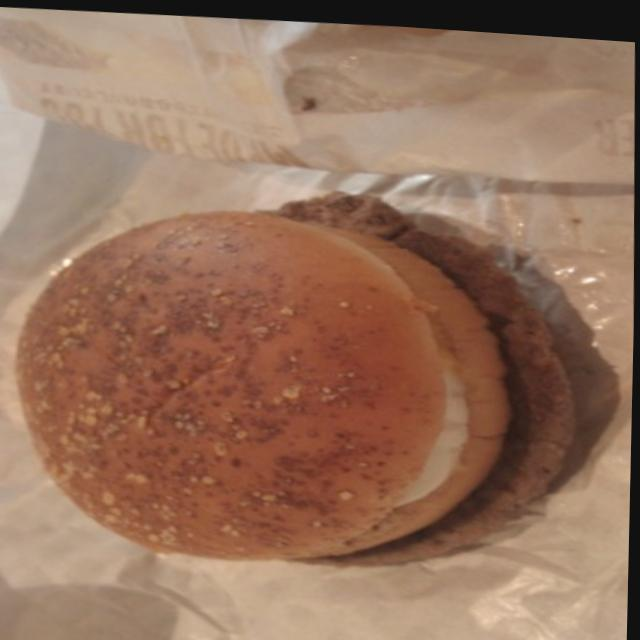汉堡快餐: (0, 152, 614, 584)
